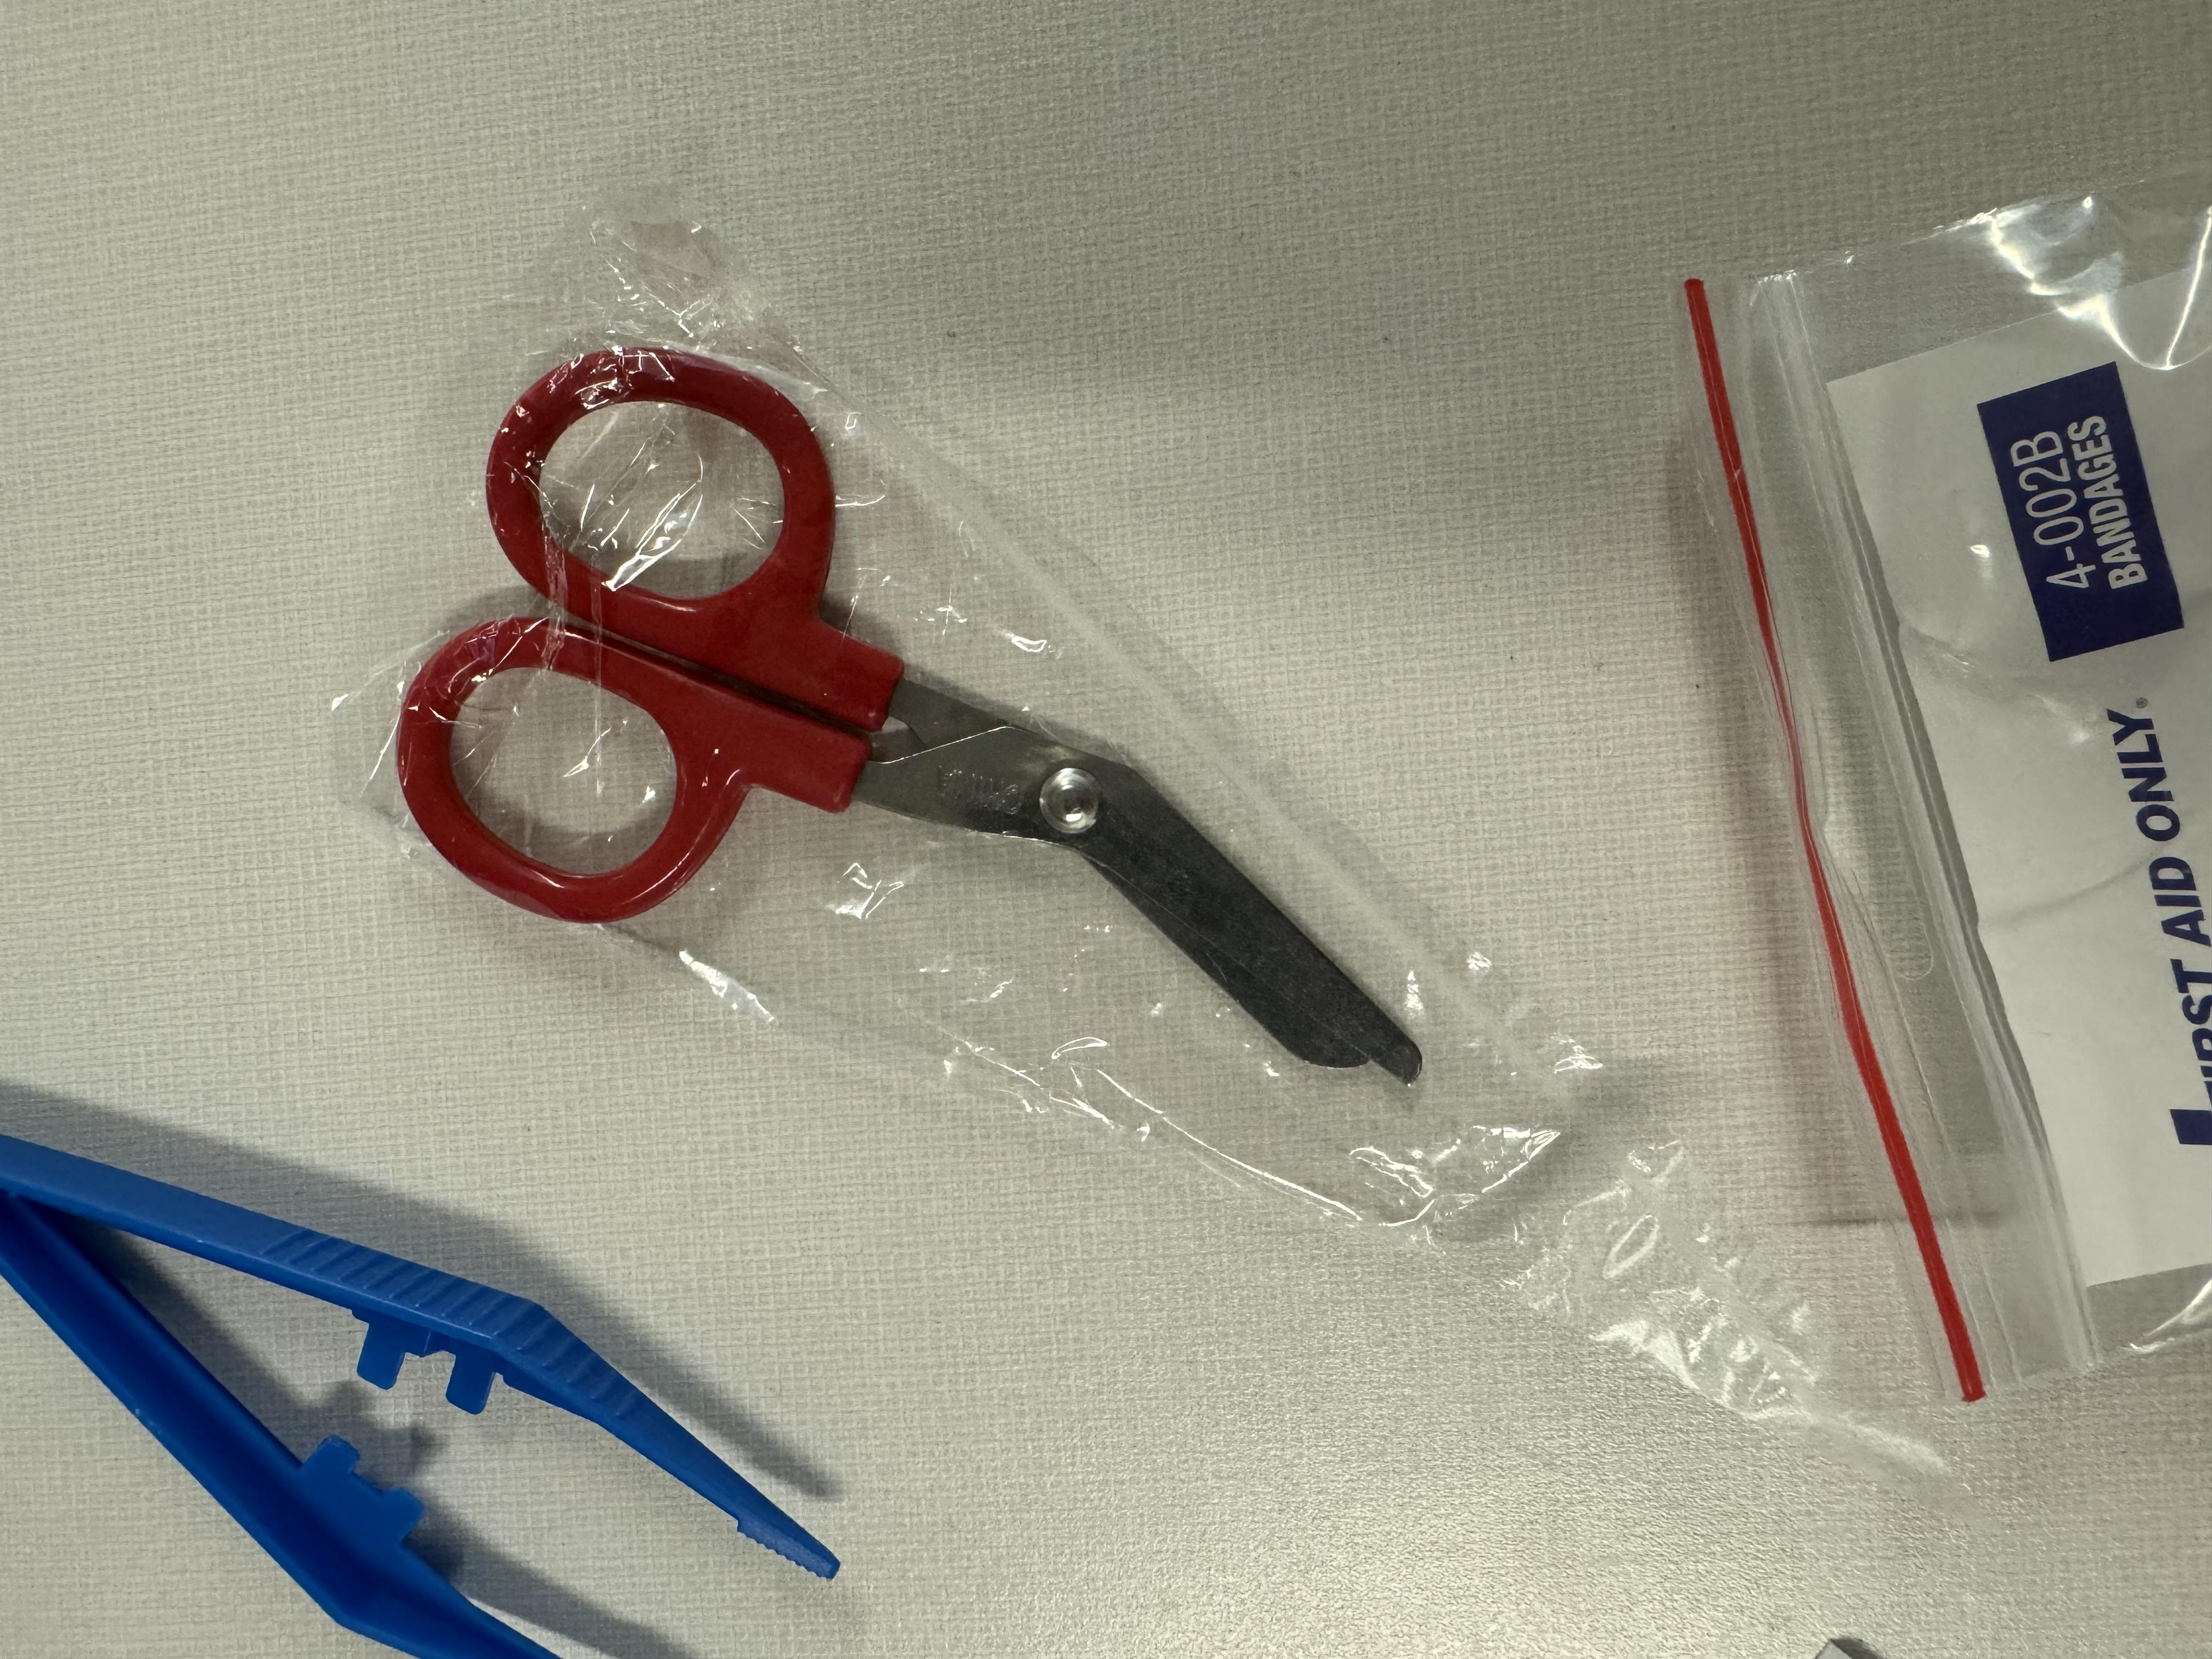scissors: (625, 272, 2029, 1136), (0, 0, 702, 685)
